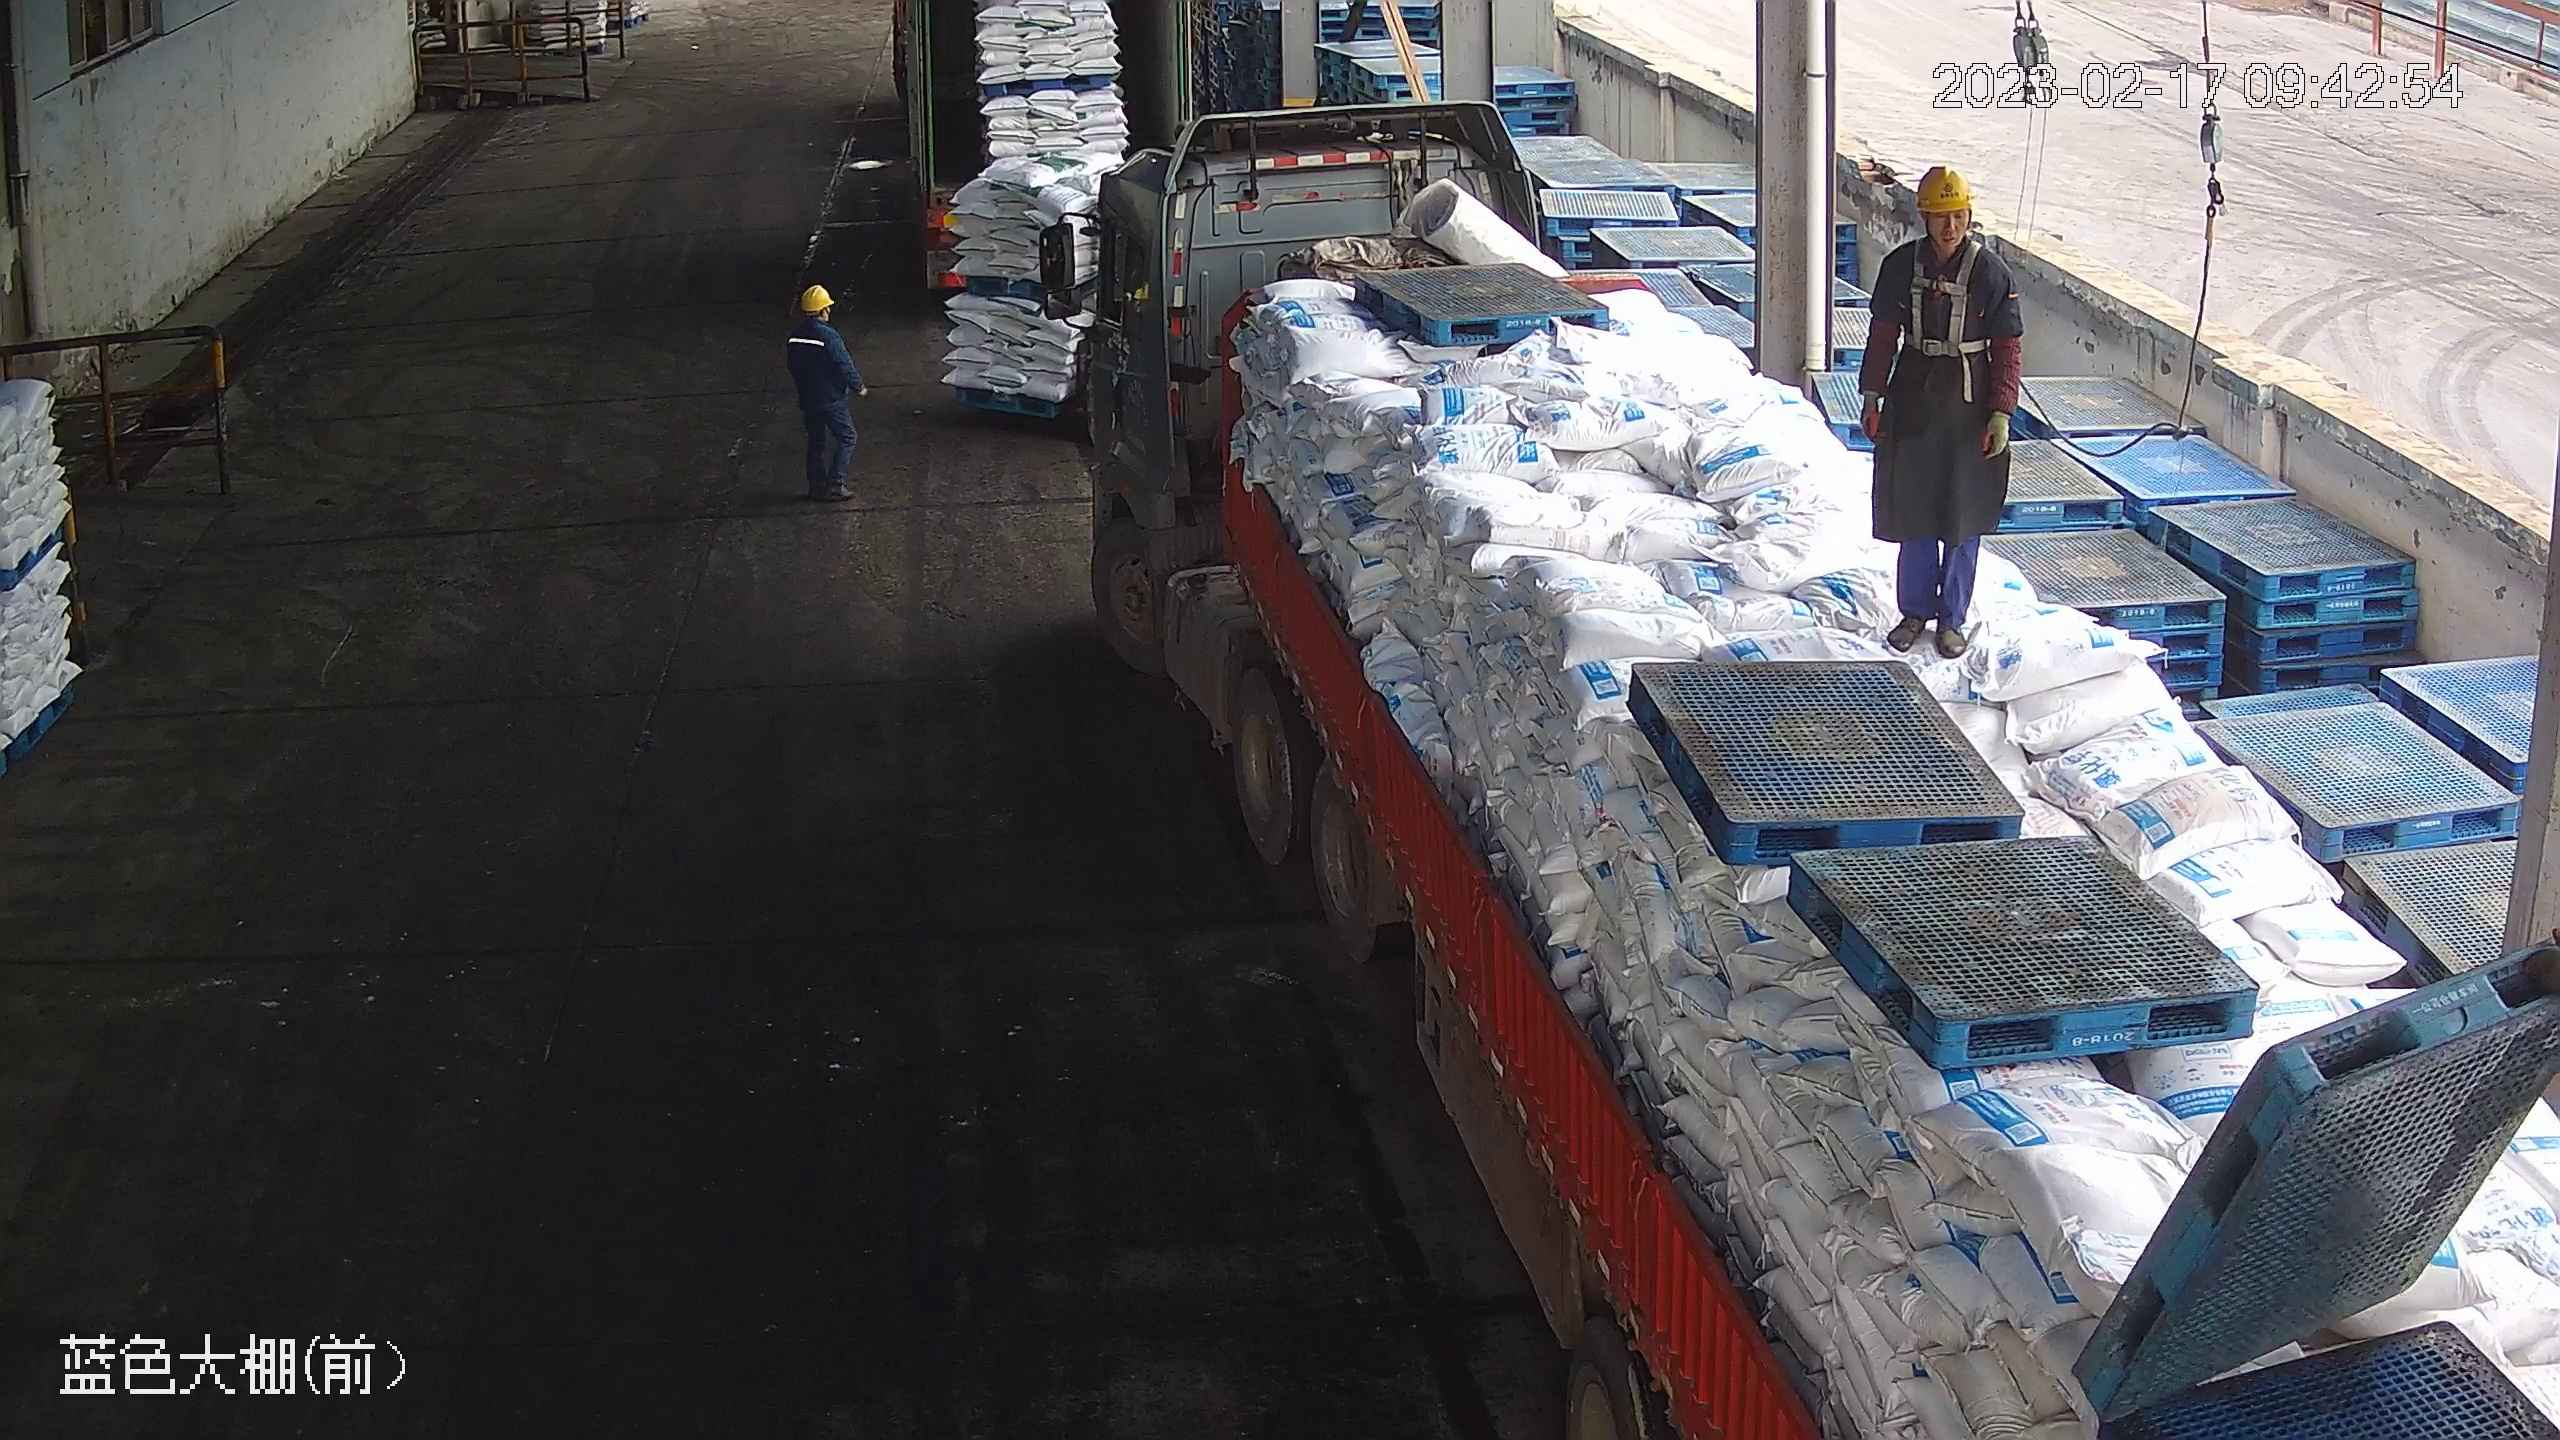belt: (1900, 232, 1998, 354)
head: (1873, 166, 2017, 294), (785, 282, 847, 351)
helmet: (1909, 163, 1972, 214), (797, 282, 837, 313)
people: (1863, 161, 2025, 664), (783, 280, 868, 506)
truck: (1039, 102, 2555, 1440), (891, 2, 1189, 292)
